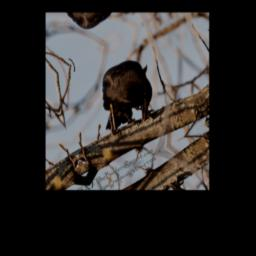Crow: (85, 49, 167, 142)
